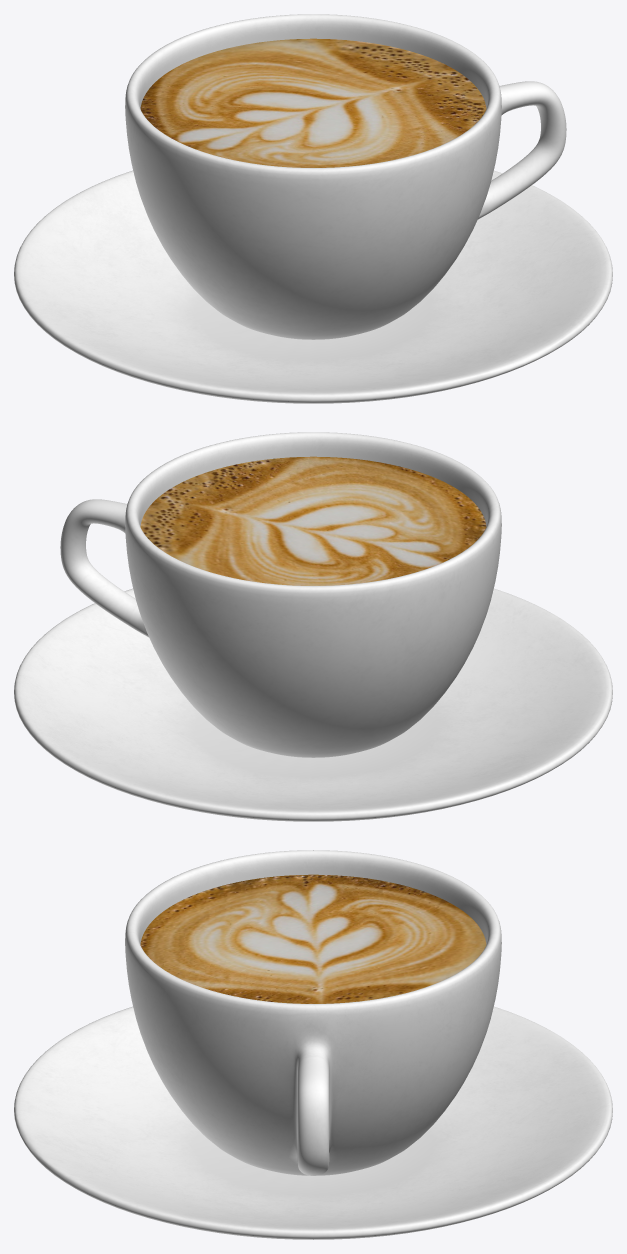
Rendered from coffee_cup.glb.
The picture shows the model from 3 angles, top to bottom: view 1: azimuth 30°, elevation 25°; view 2: azimuth 150°, elevation 25°; view 3: azimuth 270°, elevation 25°; orthographic projection.
Parts seen in each view (by area): view 1: Coffee_Cup; view 2: Coffee_Cup; view 3: Coffee_Cup.
Boxes of the visible parts, left/top/right/bottom form: Coffee_Cup: left=14, top=14, right=612, bottom=403; Coffee_Cup: left=14, top=432, right=612, bottom=821; Coffee_Cup: left=14, top=850, right=612, bottom=1239.
Size of the model in its own units: 0.1985 by 0.085 by 0.1985.
1 material, 1 textured.
